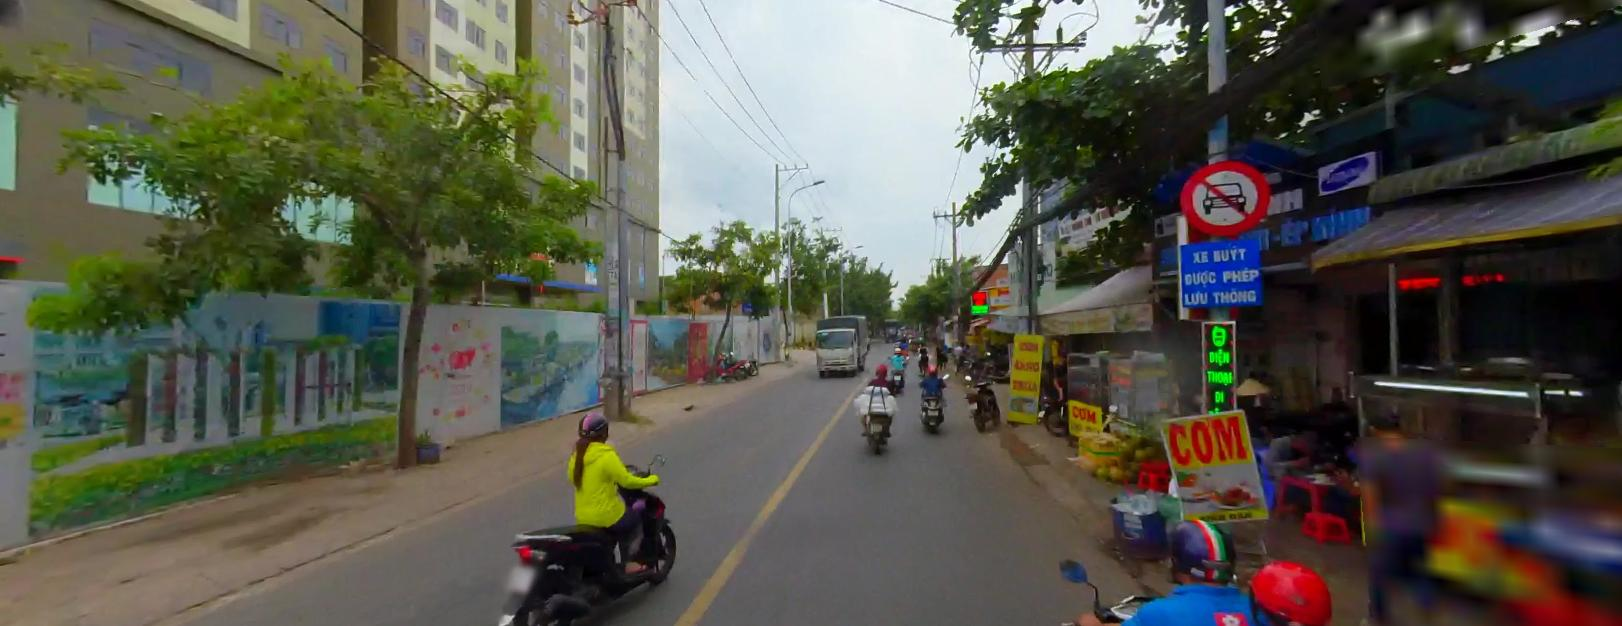Cam con lai: (1179, 154, 1271, 236)
